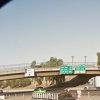Bridge: (8, 58, 99, 84)
